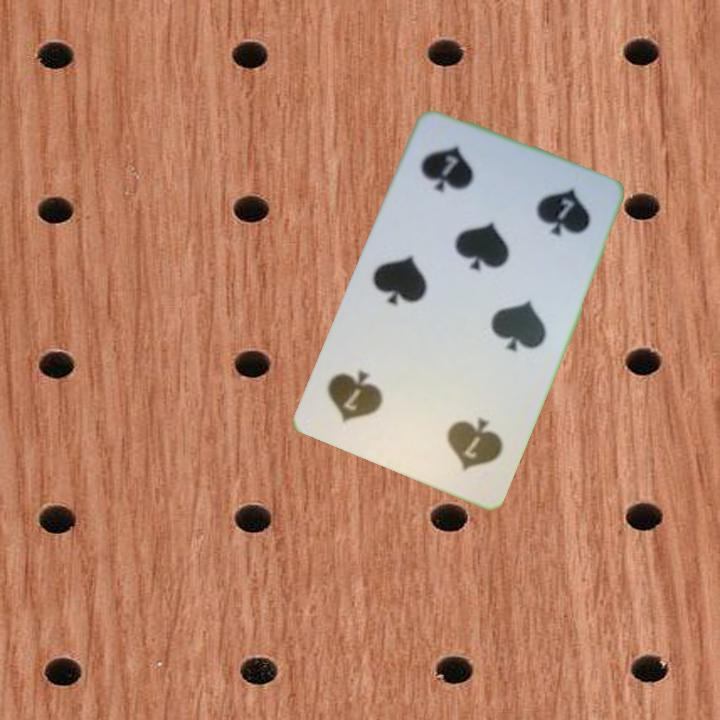s_7.png: (397, 376, 521, 492), (401, 122, 524, 238)
